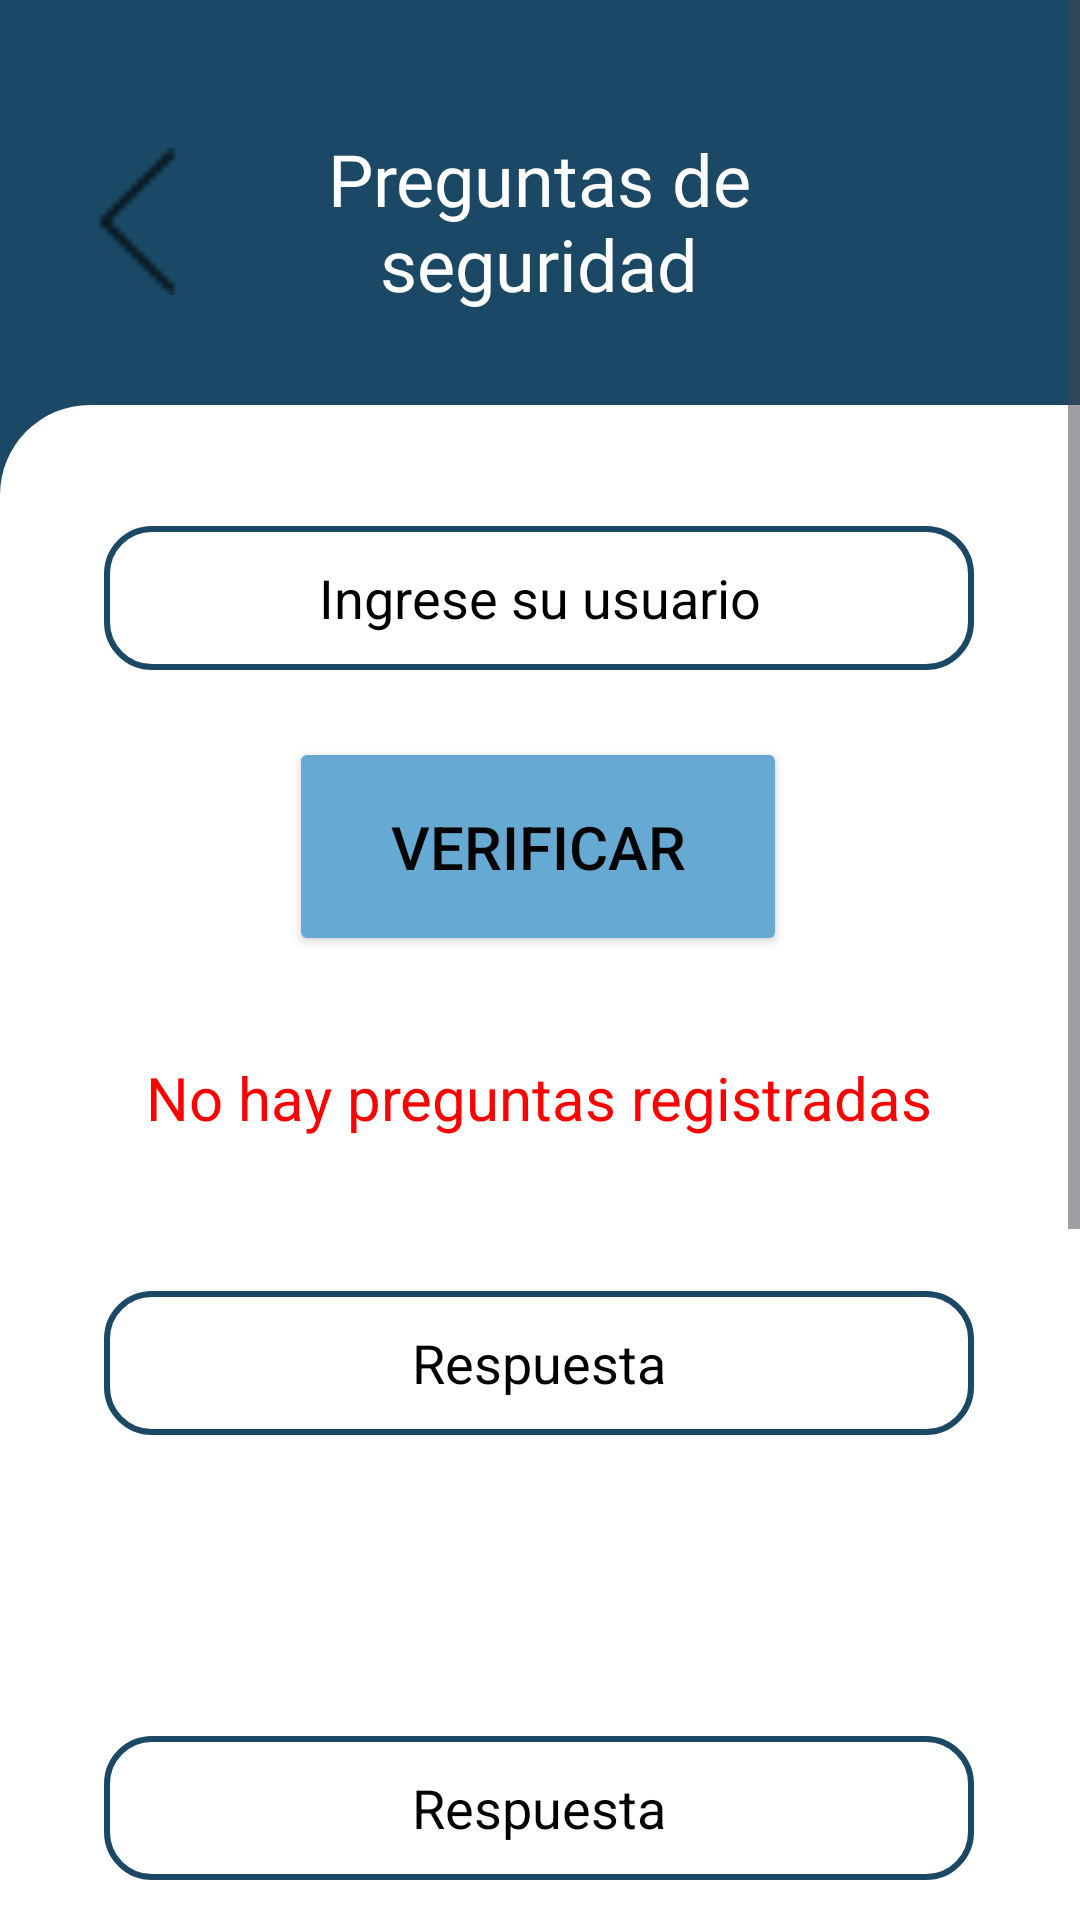

Icon click points for this 1080w x 1920h phone screenshot, format (x=x, y=y):
flecha: (x=137, y=221)
